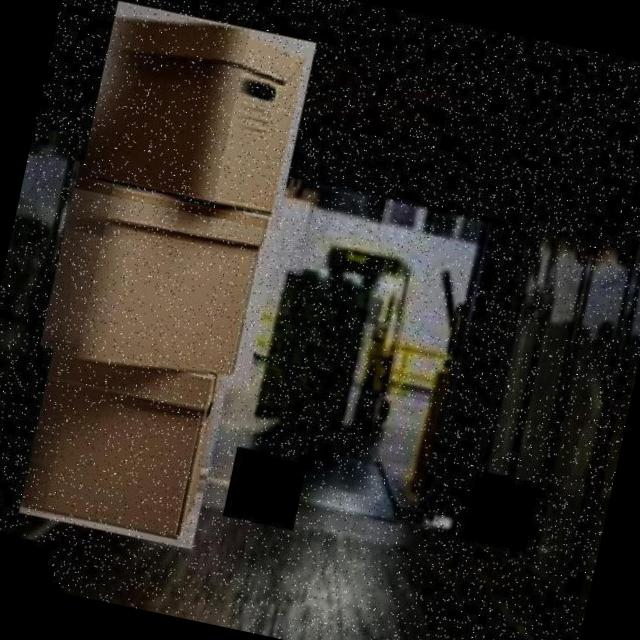box: (35, 160, 288, 395), (73, 0, 318, 231), (14, 326, 232, 554)
